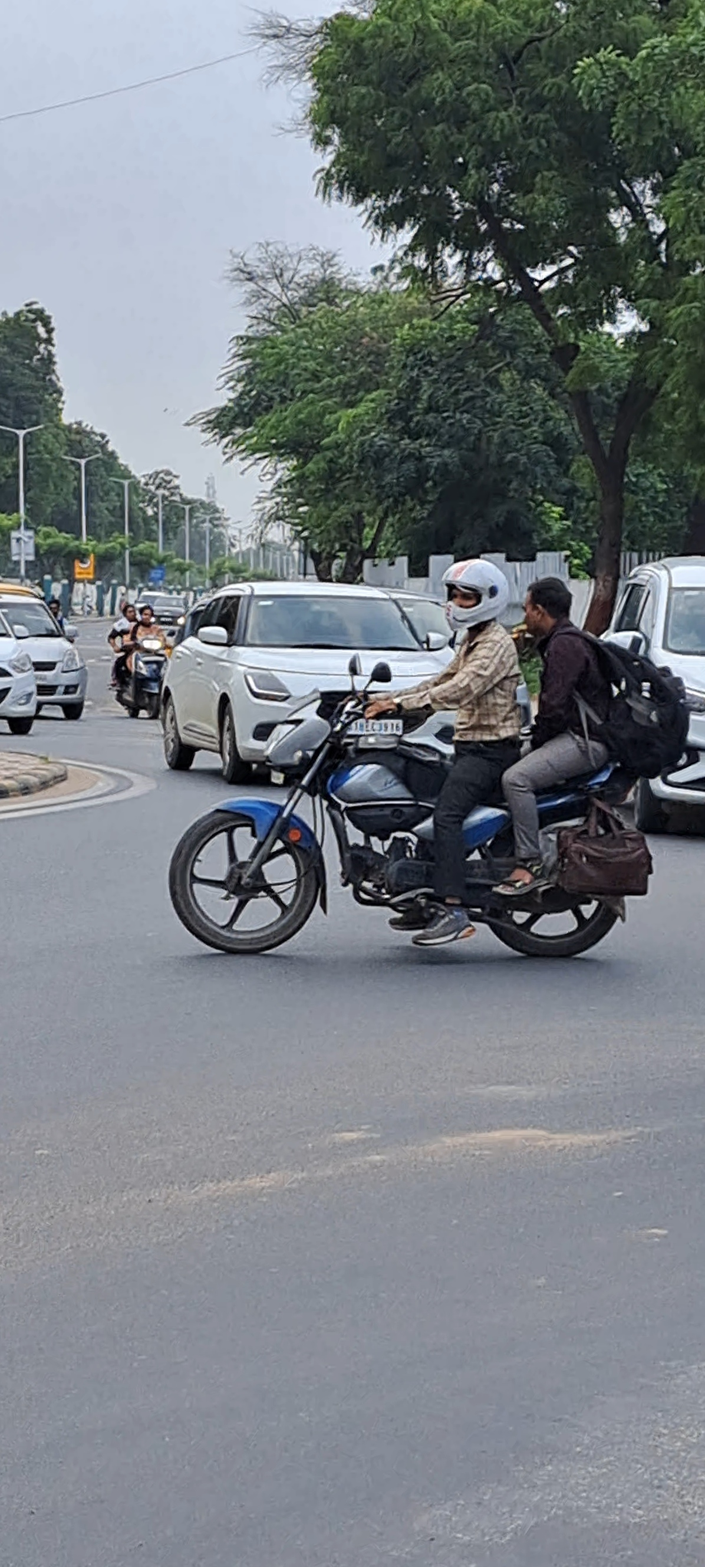BikeWithRider: (150, 551, 696, 968), (102, 594, 174, 722)
Helmet: (437, 553, 517, 635)
NoHelmet: (516, 570, 581, 646)
